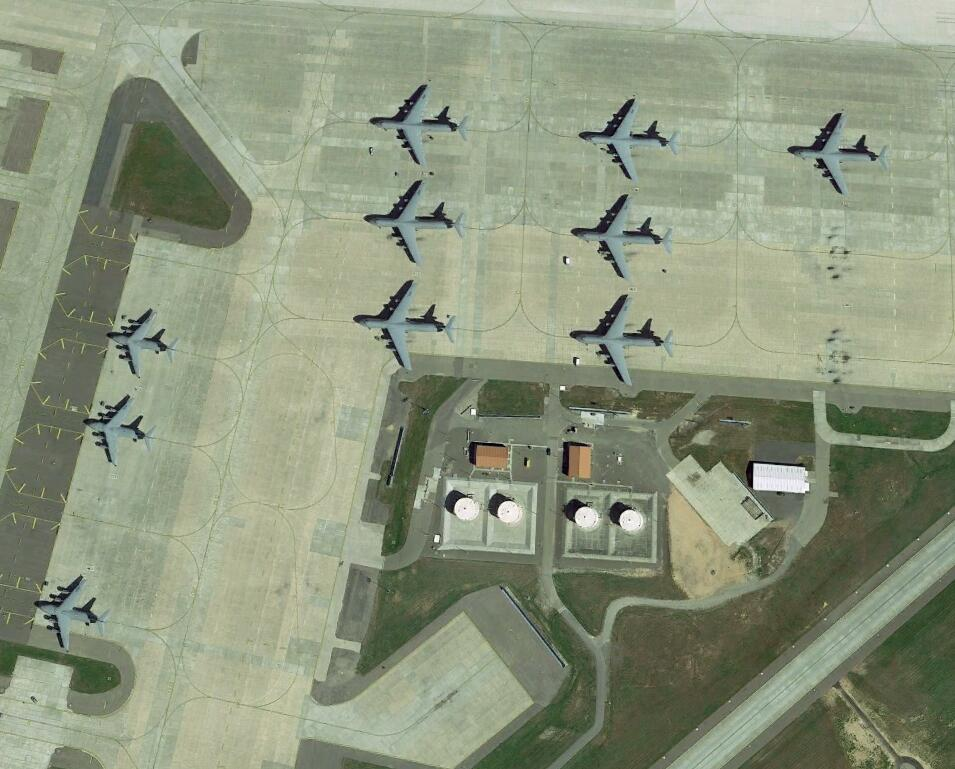A3: (35, 575, 110, 652), (108, 310, 180, 379), (82, 396, 151, 465)
A4: (572, 293, 676, 388), (354, 279, 460, 372), (364, 179, 468, 267), (571, 195, 677, 280), (790, 112, 891, 197), (373, 84, 473, 169), (583, 99, 683, 181)
